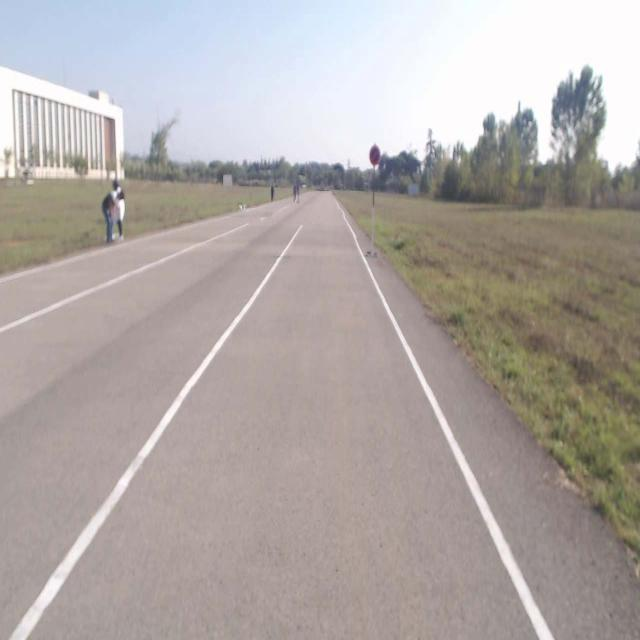parkyasak: (369, 144, 380, 164)
